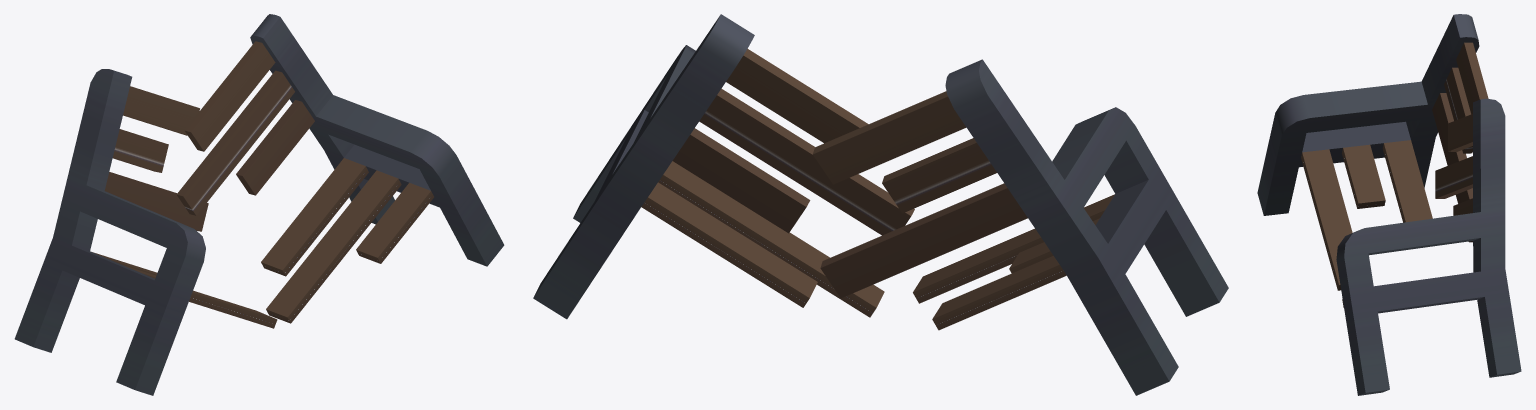
File: bench-damaged.gltf
3 renders of one model, left to right at view 1: azimuth 30°, elevation 25°; view 2: azimuth 150°, elevation 25°; view 3: azimuth 270°, elevation 25°, orthographic. The views are drawn at different scales.
Parts seen in each view (by area): view 1: bench_damaged; view 2: bench_damaged; view 3: bench_damaged.
Boxes of the visible parts, x1=… form: bench_damaged: x1=14, y1=14, x2=504, y2=395; bench_damaged: x1=533, y1=14, x2=1228, y2=395; bench_damaged: x1=1257, y1=14, x2=1521, y2=395.
Bounding box in the file's own units: 1.03 × 0.5232 × 0.5259.
